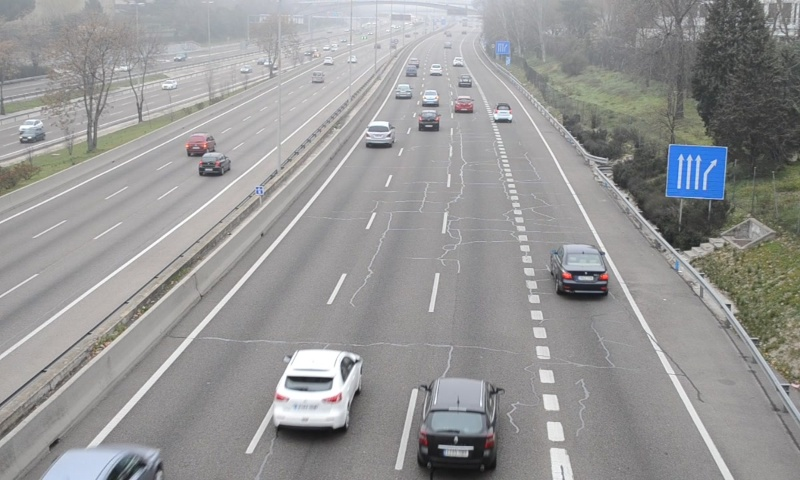car: (272, 350, 363, 436), (418, 377, 498, 464), (550, 242, 611, 299), (364, 121, 395, 148), (417, 110, 440, 132), (492, 102, 514, 124), (454, 95, 474, 114), (394, 84, 414, 100), (421, 89, 439, 106)
